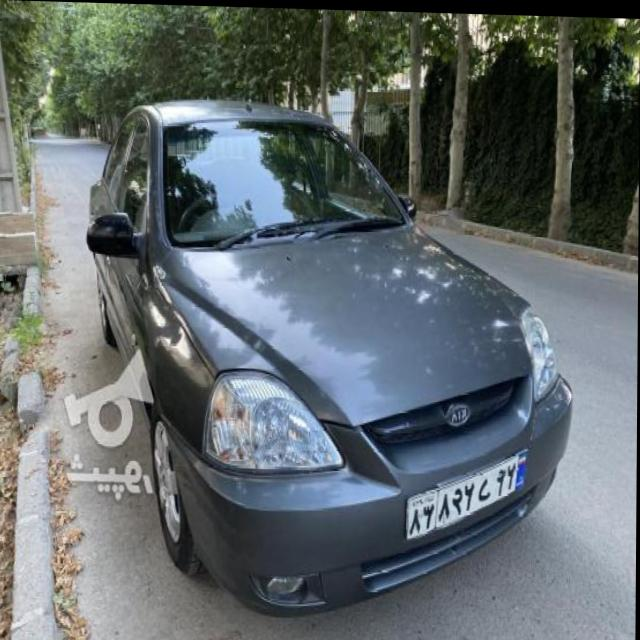licence: (406, 442, 531, 542)
